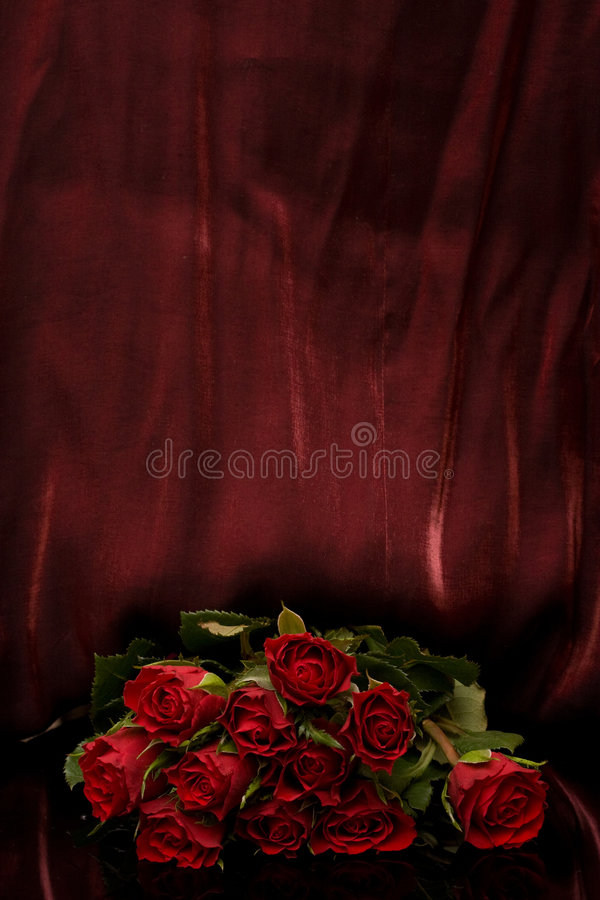RedRose: (136, 651, 243, 745), (449, 756, 549, 843), (132, 797, 228, 861), (283, 647, 363, 721), (331, 802, 420, 858), (337, 695, 416, 756), (88, 749, 119, 837), (175, 743, 245, 778), (245, 703, 291, 749), (252, 806, 287, 856), (283, 756, 339, 784)
